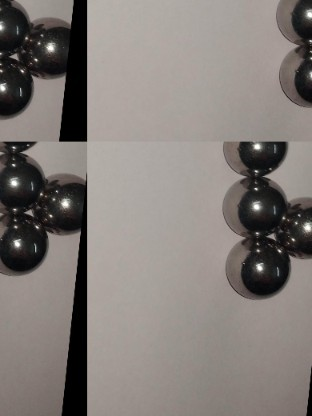ironball: (216, 236, 300, 305), (215, 172, 290, 235), (0, 208, 56, 286), (32, 166, 91, 238), (219, 138, 304, 182), (24, 15, 79, 82), (0, 150, 49, 214), (277, 42, 310, 118), (277, 186, 310, 260), (0, 51, 32, 123), (0, 0, 31, 57), (272, 0, 310, 43)
